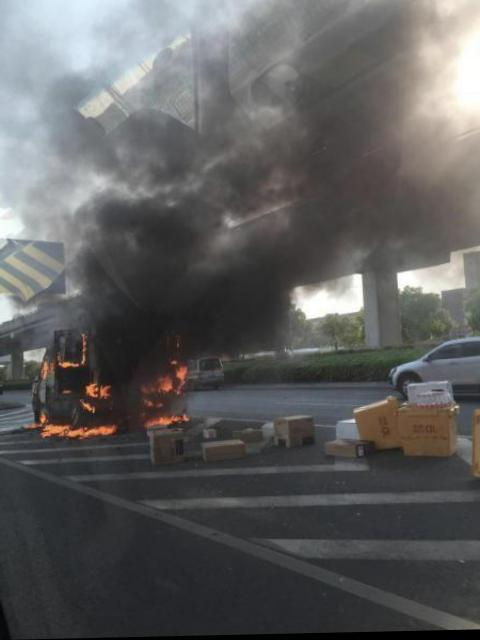fire: (44, 424, 114, 437), (142, 375, 177, 392), (148, 414, 192, 424), (176, 363, 188, 388), (88, 382, 100, 399), (83, 330, 89, 363), (59, 358, 79, 366), (102, 385, 112, 398), (41, 360, 49, 376), (42, 411, 48, 422)
